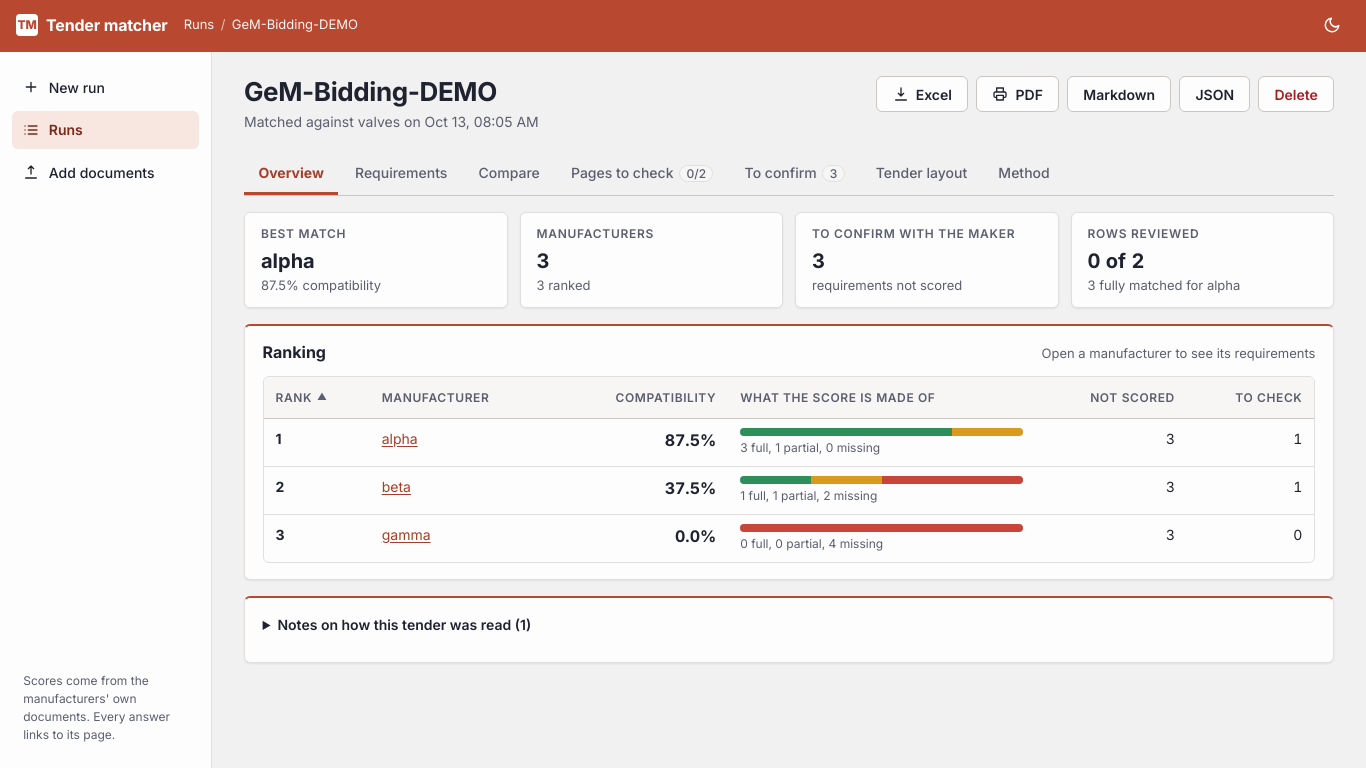
Test: the report › switches to the dark theme and remembers it
Step 1. Click the button named "Switch to the dark theme" → [1332, 25], box [1314,7,1350,43]
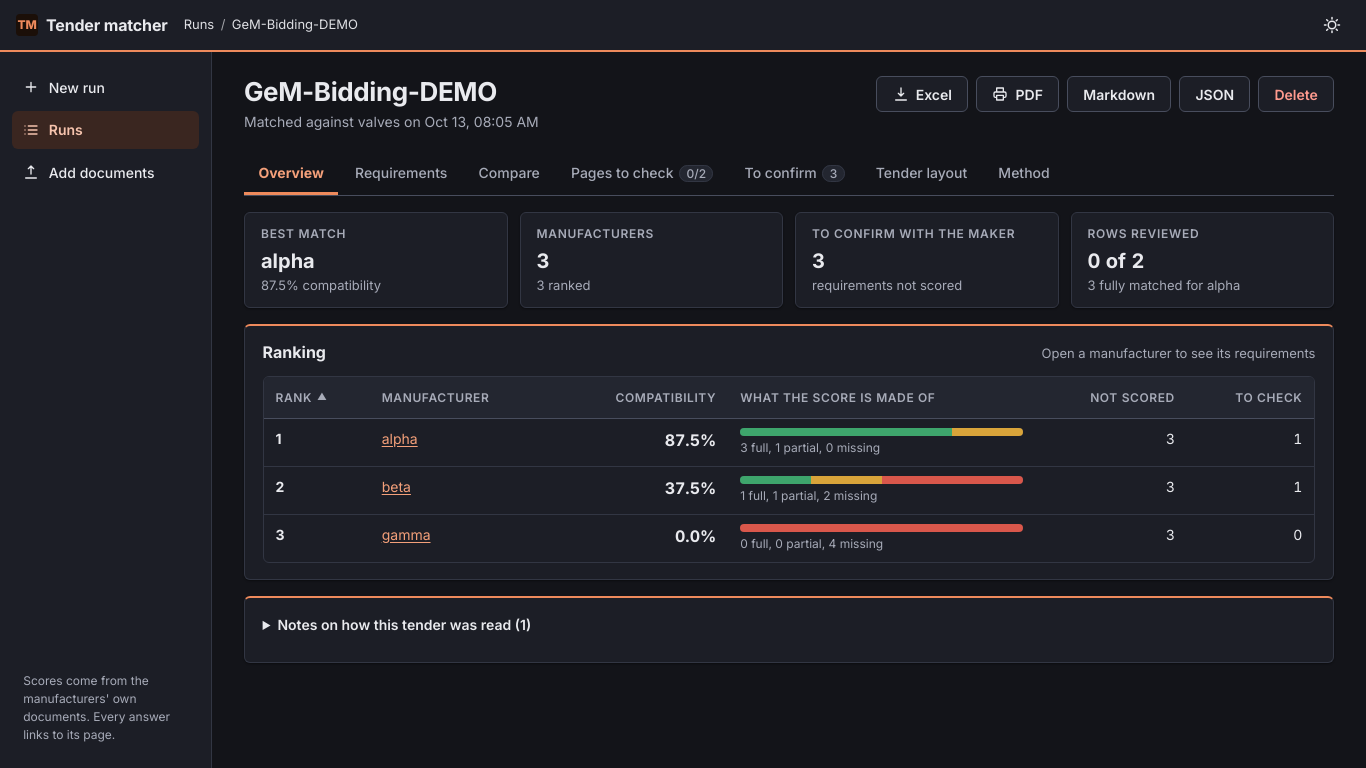
Check: the button named "Switch to the light theme" is shown, box [1314,7,1350,43]
